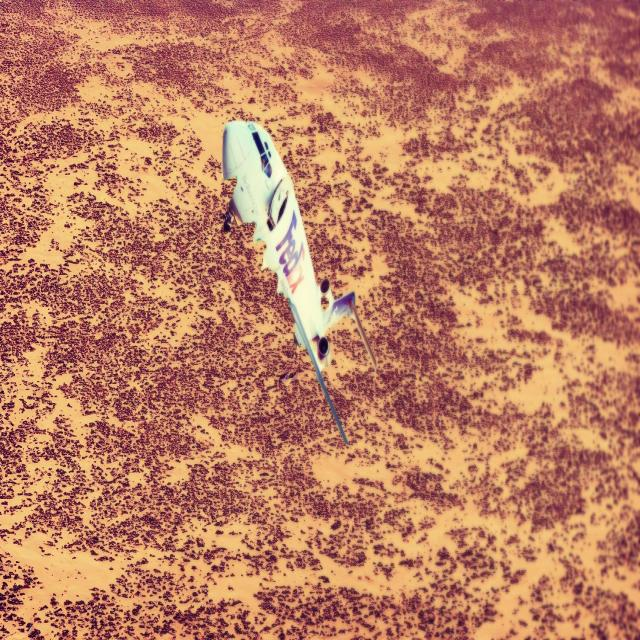airplane: (220, 118, 378, 445)
